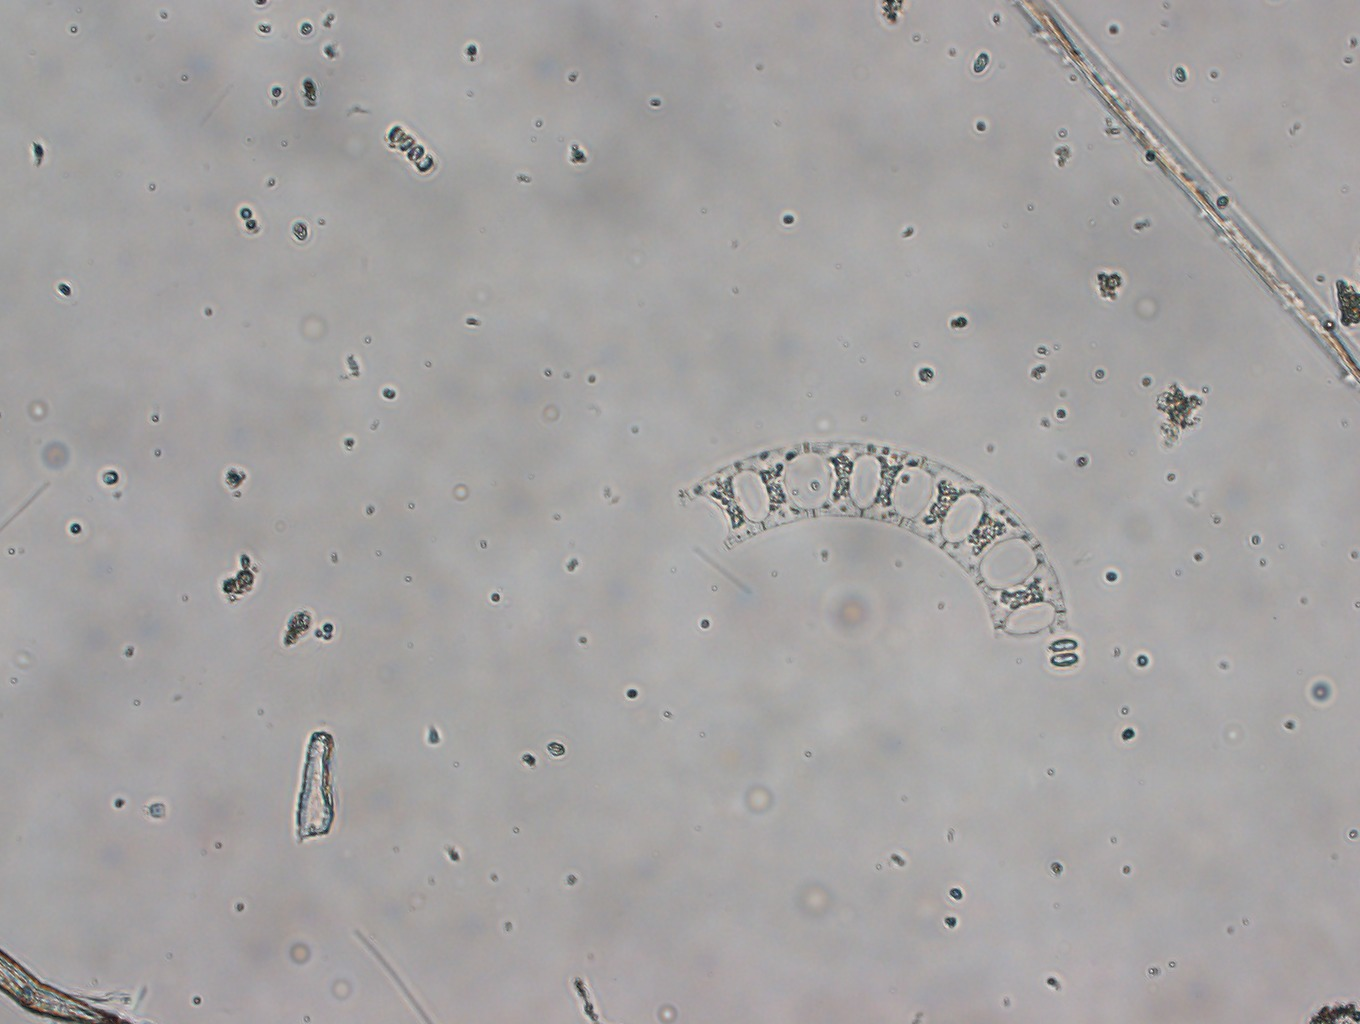eucampia: (684, 439, 1070, 643)
